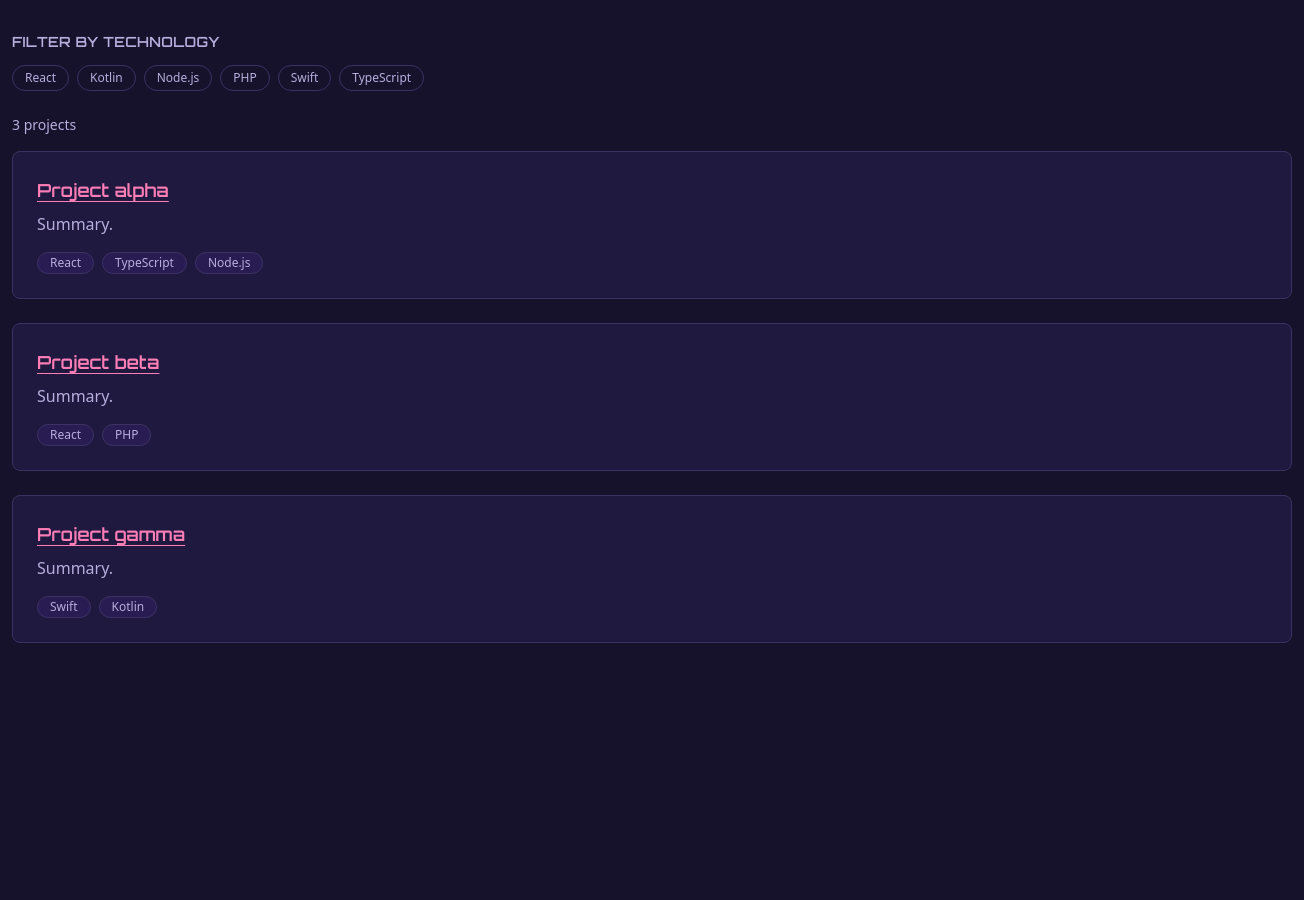
Scenario: ProjectFilter › filters to projects using the selected technology
Click the button "React" at [41, 78], box left=12, top=65, right=69, bottom=91
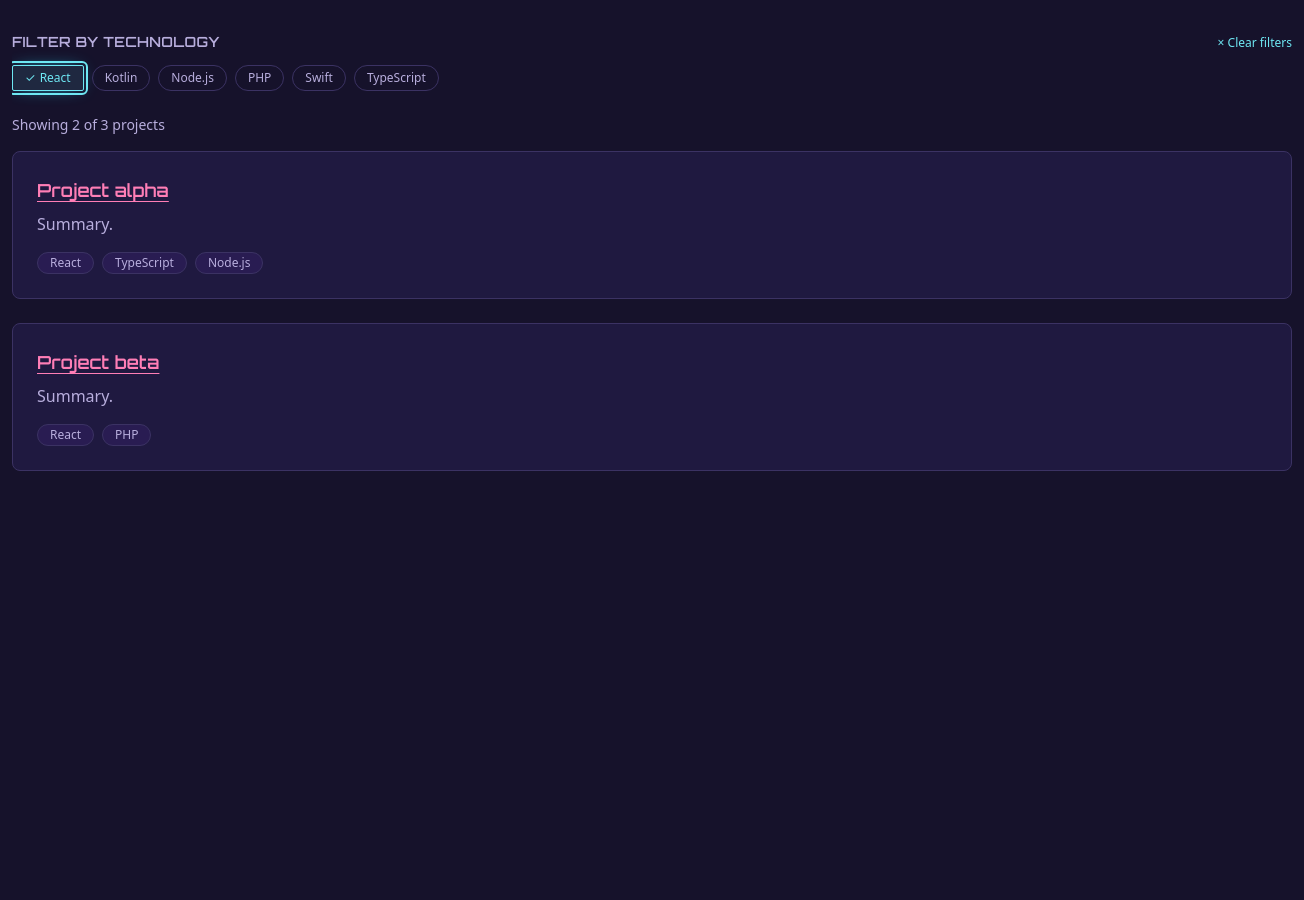
expect the link "Project alpha" is shown: met, box left=37, top=179, right=169, bottom=201
expect the link "Project gamma" is gone: met
